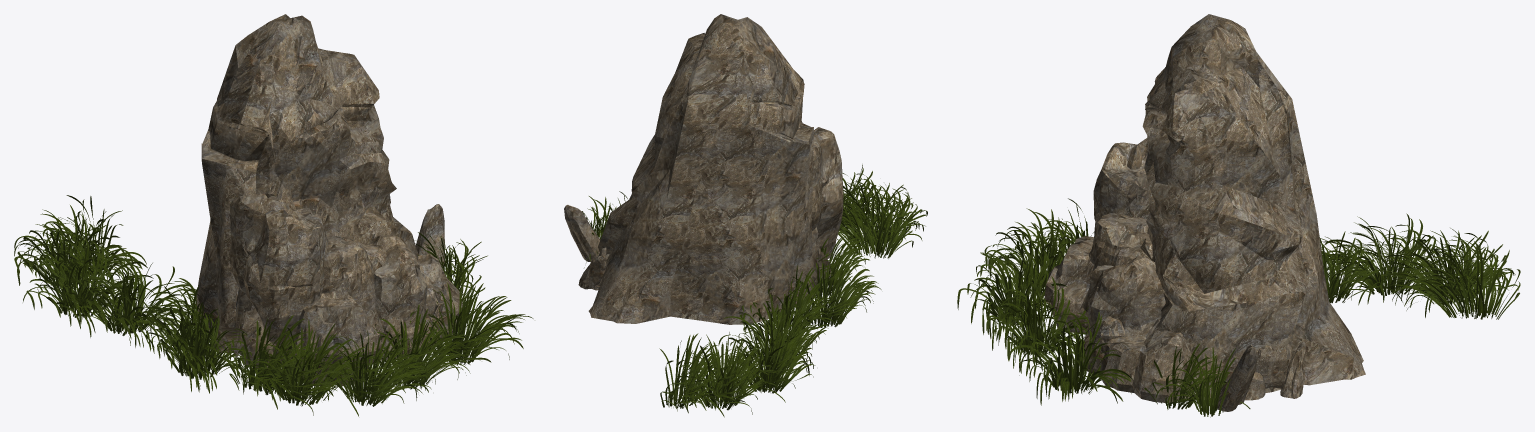
The model's file is 5S_16Rock1.FBX.
3 renders of one model, left to right at view 1: azimuth 30°, elevation 25°; view 2: azimuth 150°, elevation 25°; view 3: azimuth 270°, elevation 25°, orthographic. The views are drawn at different scales.
Visible parts, largest first — view 1: 5S_14rock5_11; view 2: 5S_14rock5_11; view 3: 5S_14rock5_11.
Boxes of the visible parts, bbox=[...] form: 5S_14rock5_11: bbox=[14, 14, 533, 416]; 5S_14rock5_11: bbox=[564, 14, 927, 417]; 5S_14rock5_11: bbox=[957, 14, 1520, 417].
Size of the model in its own units: 3.88 by 3.42 by 5.28.
2 materials, 2 textured.
